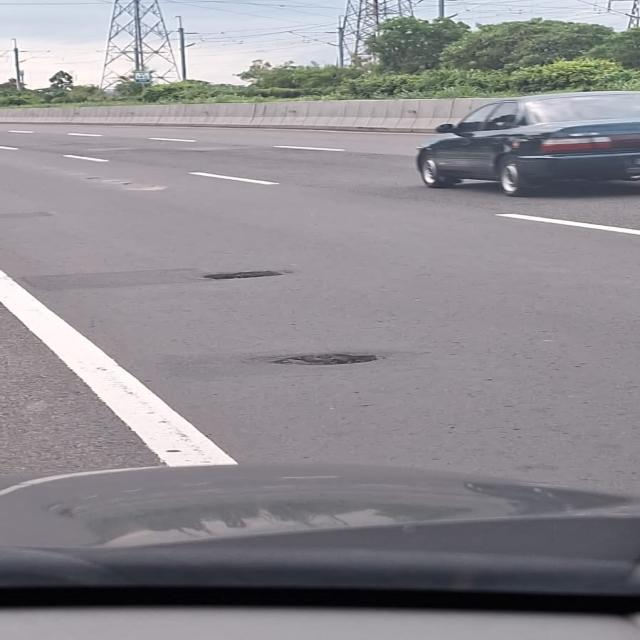Buraco: (266, 351, 390, 368), (200, 268, 288, 282)
